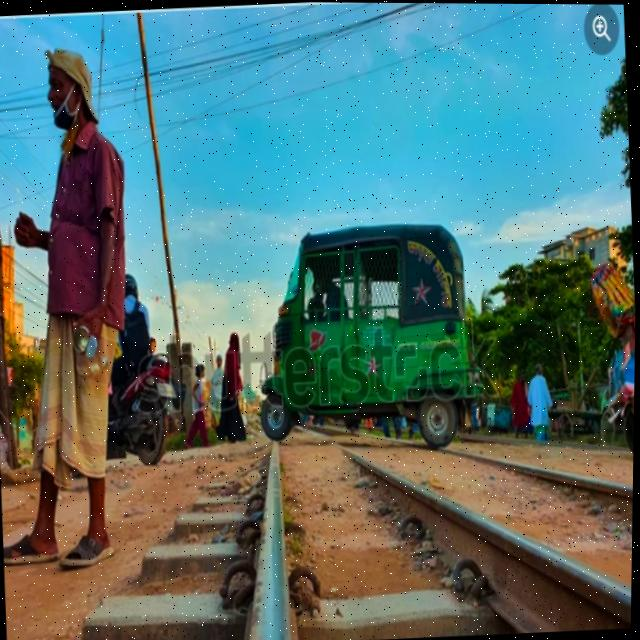cng: (267, 194, 498, 470)
